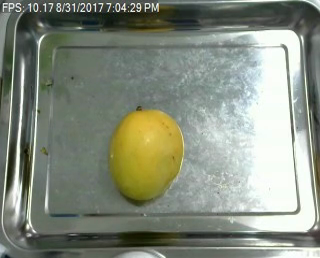Mango: (107, 108, 187, 200)
